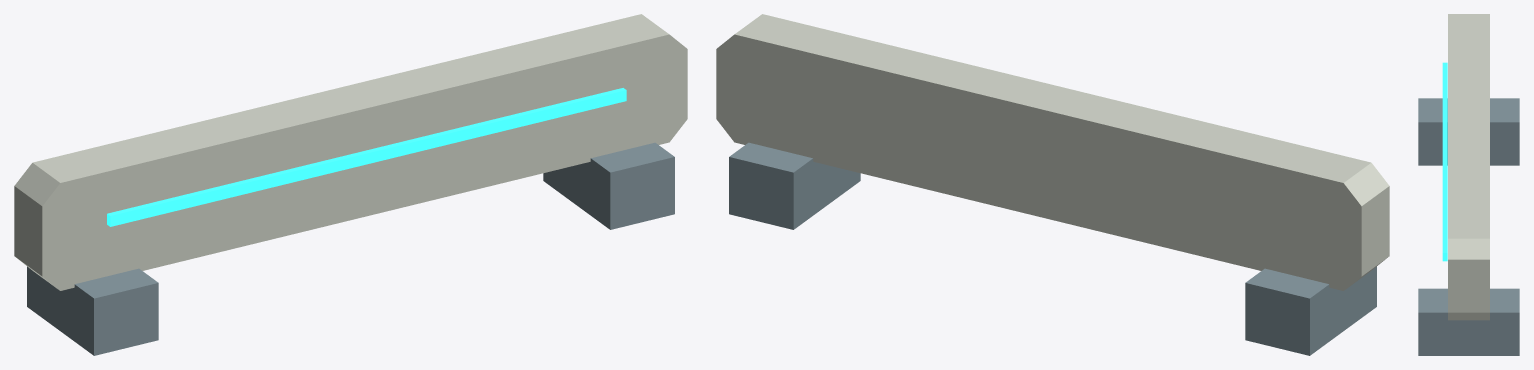
Rendered from Road_CrashBarrier_4m.glb.
3 views of the same model, side by side, from view 1: azimuth 30°, elevation 25°; view 2: azimuth 150°, elevation 25°; view 3: azimuth 270°, elevation 25° (orthographic). The views are drawn at different scales.
Parts seen in each view (by area): view 1: Road_CrashBarrier_4m_Rail, Road_CrashBarrier_4m_Feet, Road_CrashBarrier_4m_Reflectors; view 2: Road_CrashBarrier_4m_Rail, Road_CrashBarrier_4m_Feet; view 3: Road_CrashBarrier_4m_Rail, Road_CrashBarrier_4m_Feet, Road_CrashBarrier_4m_Reflectors.
Part boxes in pixels (x1,y1,x2,y2): Road_CrashBarrier_4m_Rail: [14, 14, 687, 290]; Road_CrashBarrier_4m_Feet: [27, 142, 674, 355]; Road_CrashBarrier_4m_Reflectors: [107, 88, 626, 226]; Road_CrashBarrier_4m_Rail: [716, 14, 1389, 290]; Road_CrashBarrier_4m_Feet: [729, 142, 1376, 355]; Road_CrashBarrier_4m_Rail: [1448, 14, 1489, 320]; Road_CrashBarrier_4m_Feet: [1418, 98, 1519, 355]; Road_CrashBarrier_4m_Reflectors: [1442, 62, 1447, 261].
Bounding box in the file's own units: 4 × 0.96 × 0.72.
